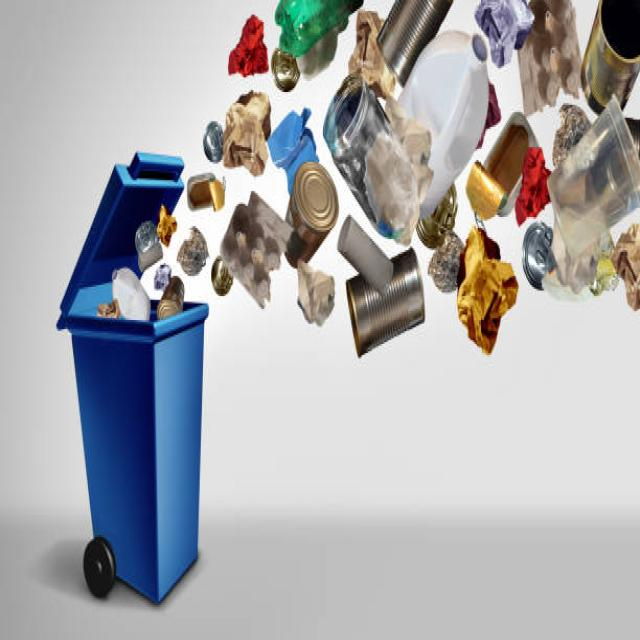cardboard: (505, 5, 587, 100)
metal: (340, 254, 442, 362), (468, 103, 516, 217), (368, 13, 430, 94), (288, 170, 336, 247), (195, 127, 232, 215)
plastic: (537, 147, 640, 252)
